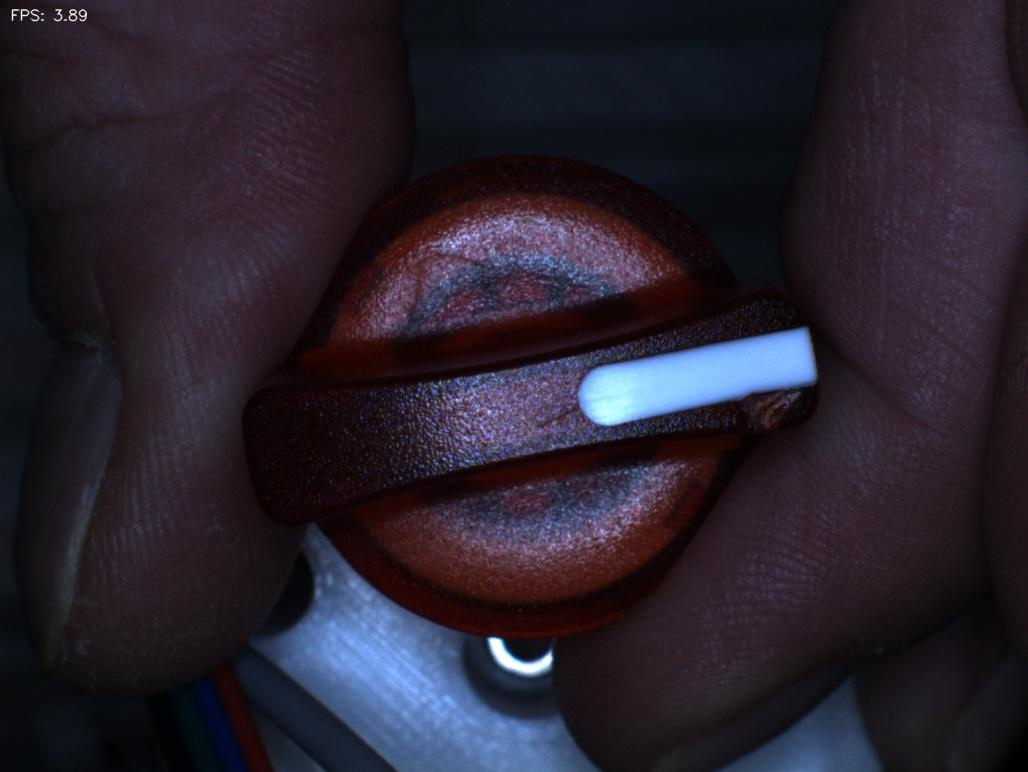Choc: (719, 361, 827, 458)
